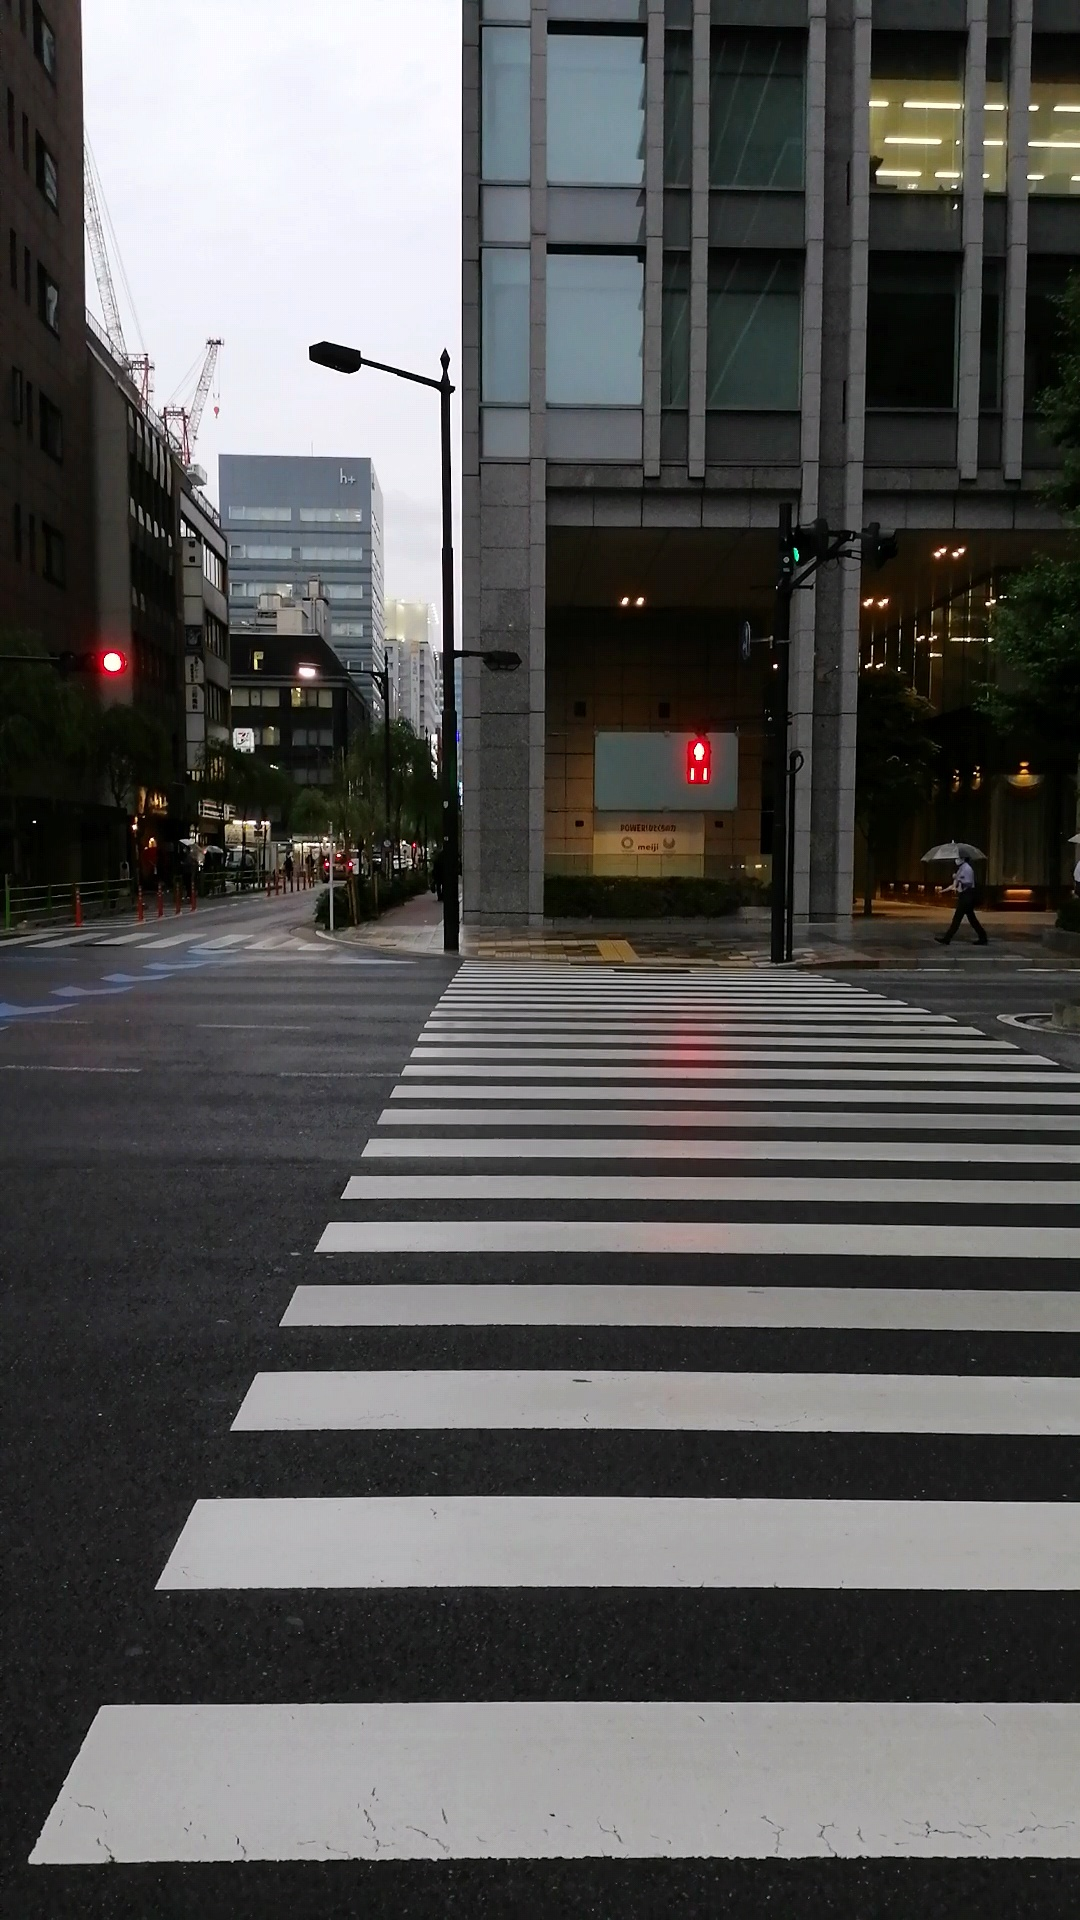red: (686, 738, 709, 785)
